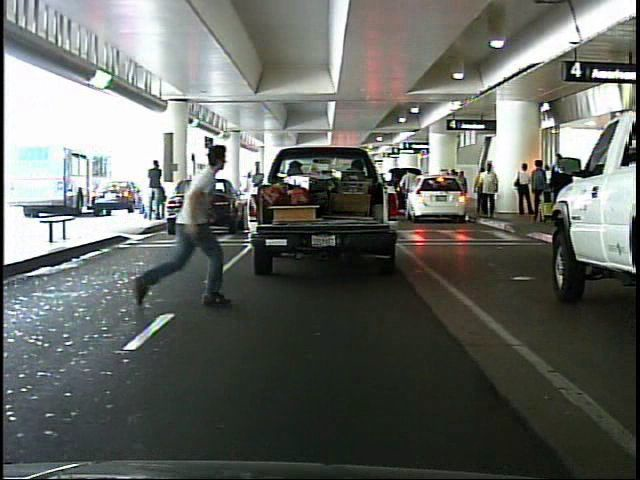person: (117, 124, 242, 318), (472, 156, 501, 224), (530, 158, 552, 225), (514, 156, 537, 219), (147, 157, 169, 219)
